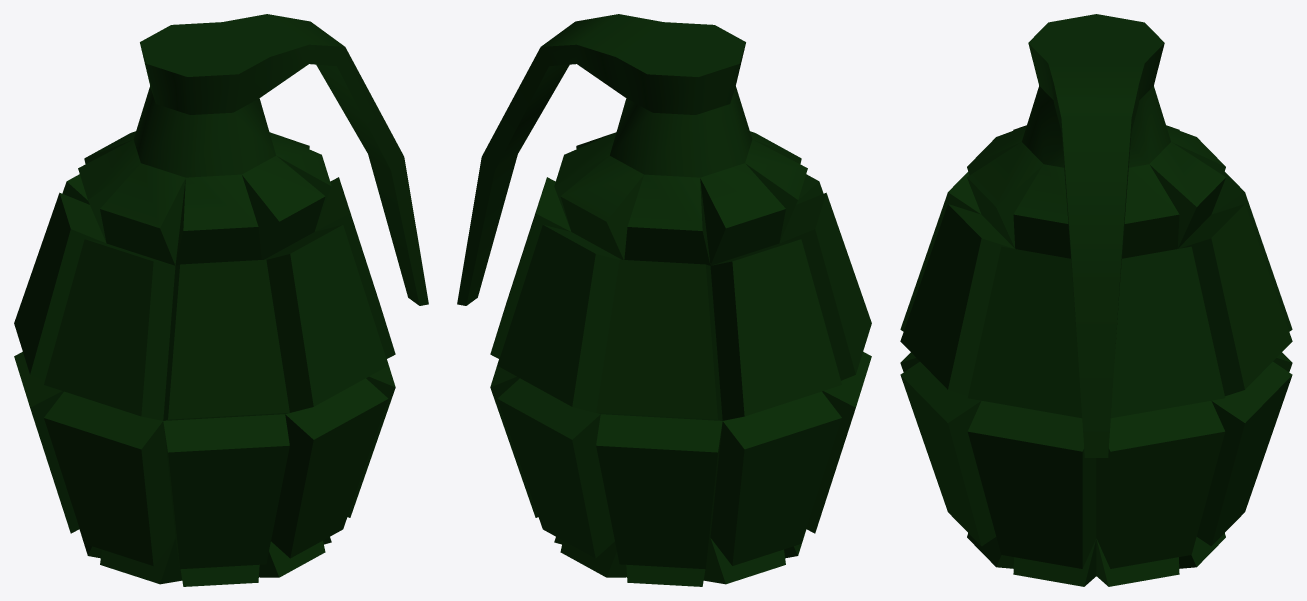
The model's file is Explosives.FBX.
The picture shows the model from 3 angles, left to right: view 1: azimuth 30°, elevation 25°; view 2: azimuth 150°, elevation 25°; view 3: azimuth 270°, elevation 25°; orthographic projection.
Parts seen in each view (by area): view 1: Grenade; view 2: Grenade; view 3: Grenade.
Part boxes in pixels (x1,y1,x2,y2): Grenade: (14,14,428,586); Grenade: (457,14,871,586); Grenade: (900,14,1292,586).
Bounding box in the file's own units: 0.2332 × 0.3042 × 0.2028.
